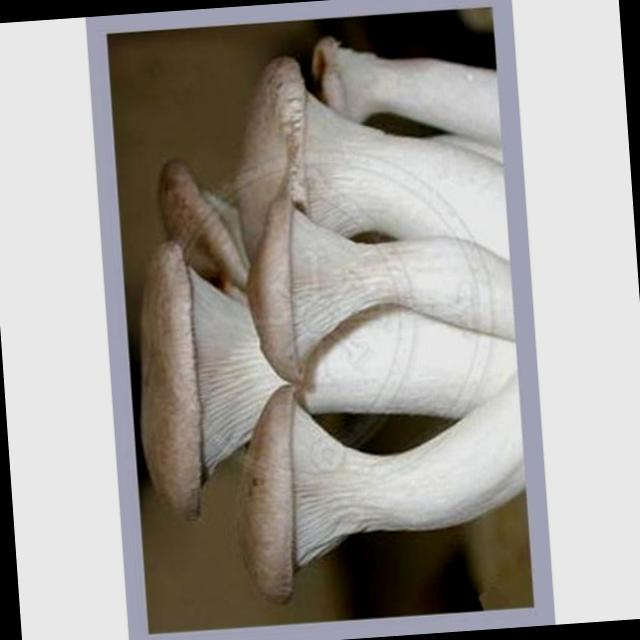Pleurotus eryngii: (131, 219, 528, 515), (233, 368, 534, 602), (224, 44, 504, 244), (236, 185, 512, 386), (304, 28, 506, 148)
